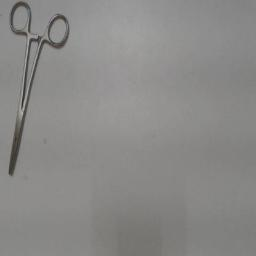Mayo Needle Holder: (3, 0, 75, 188)
